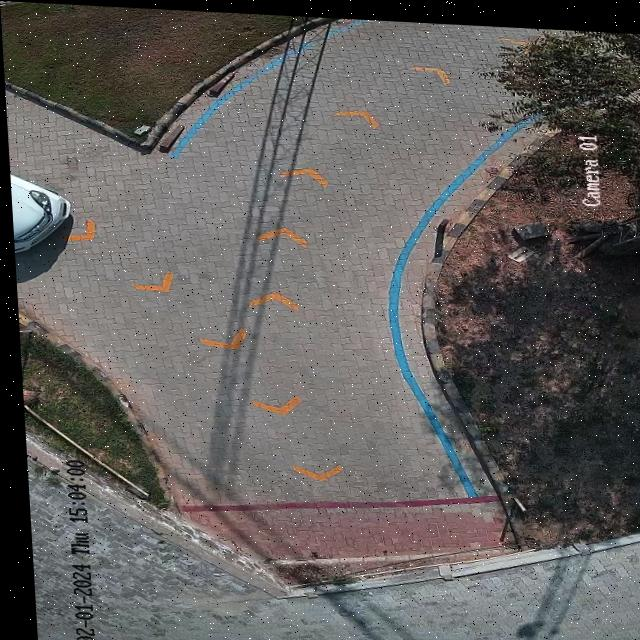car: (9, 174, 68, 251)
